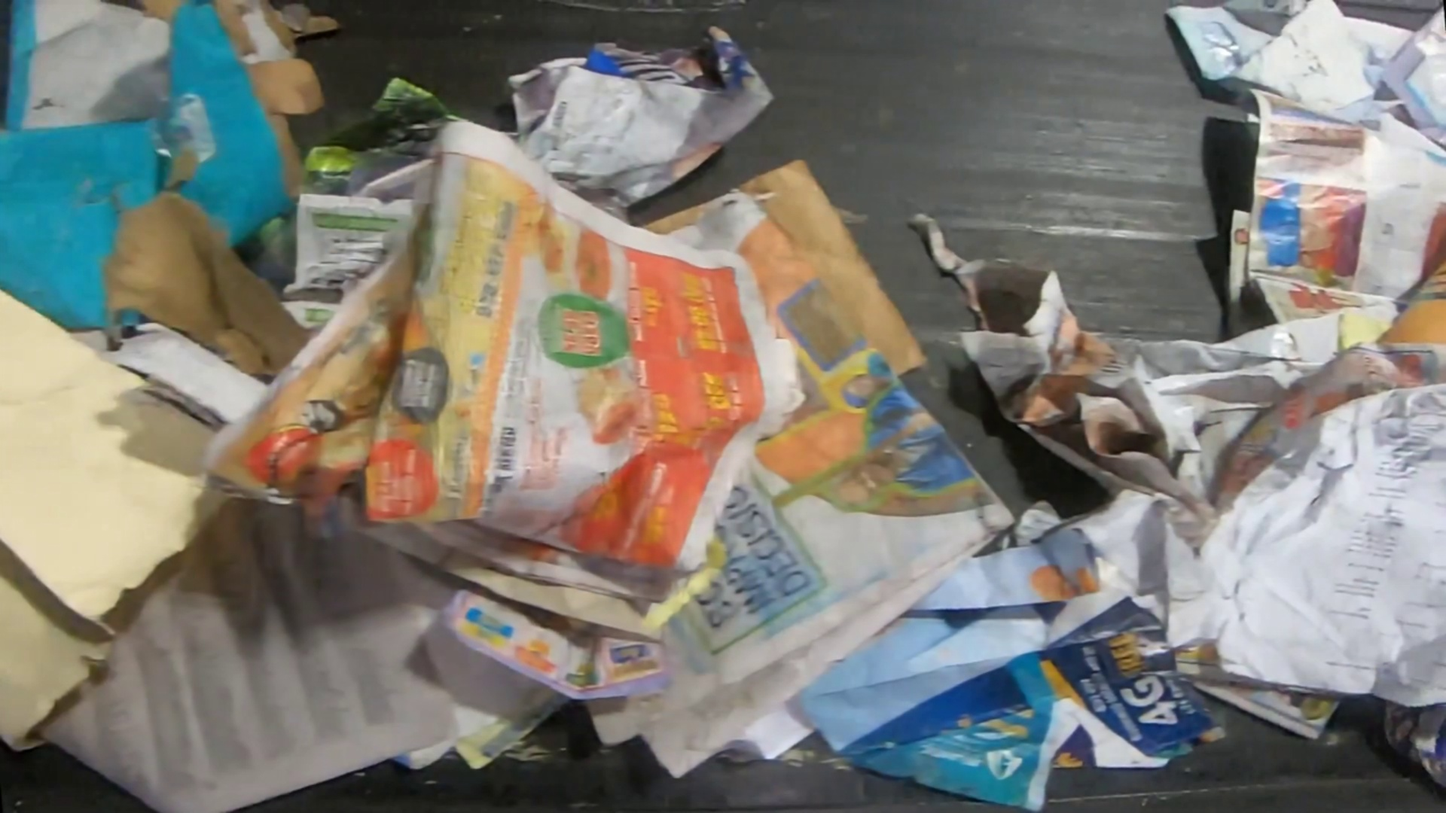cardboard: (0, 0, 346, 378), (736, 158, 931, 380), (639, 201, 710, 235)
